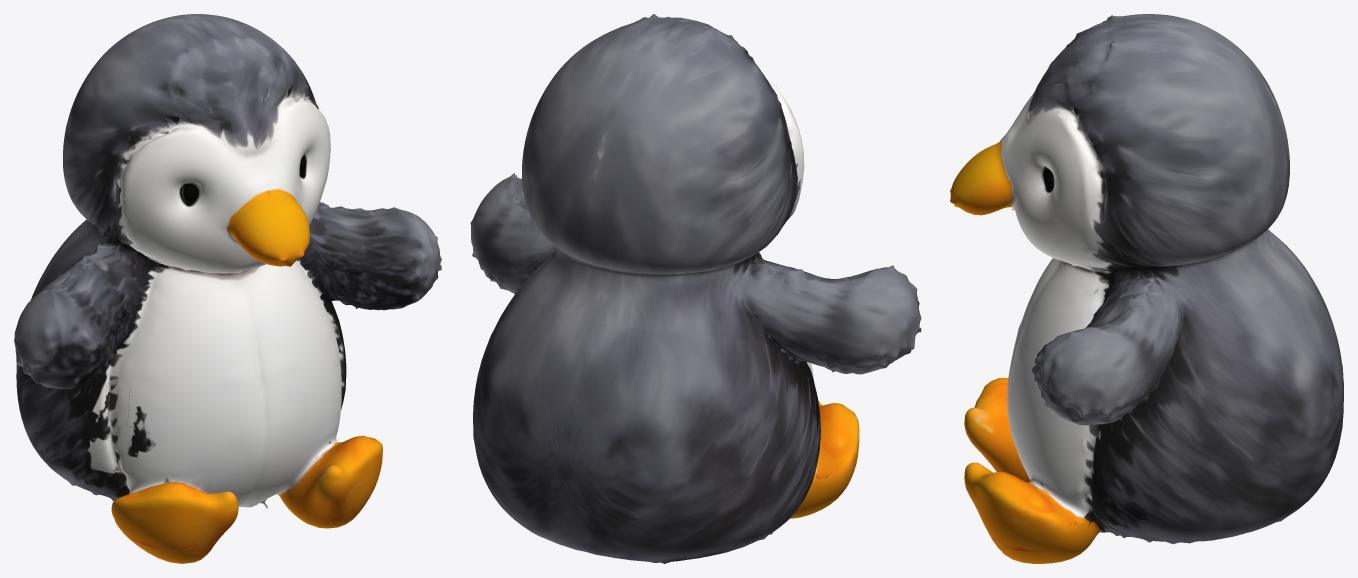
The picture shows the model from 3 angles, left to right: view 1: azimuth 30°, elevation 25°; view 2: azimuth 150°, elevation 25°; view 3: azimuth 270°, elevation 25°; orthographic projection. The views are drawn at different scales.
Parts seen in each view (by area): view 1: model; view 2: model; view 3: model.
Boxes of the visible parts, x1,y1,x2,y2 form: model: (14,14,441,563); model: (470,14,921,563); model: (950,14,1343,563).
Bounding box in the file's own units: 1.73 × 1.9 × 1.37.
1 material, 1 textured.
